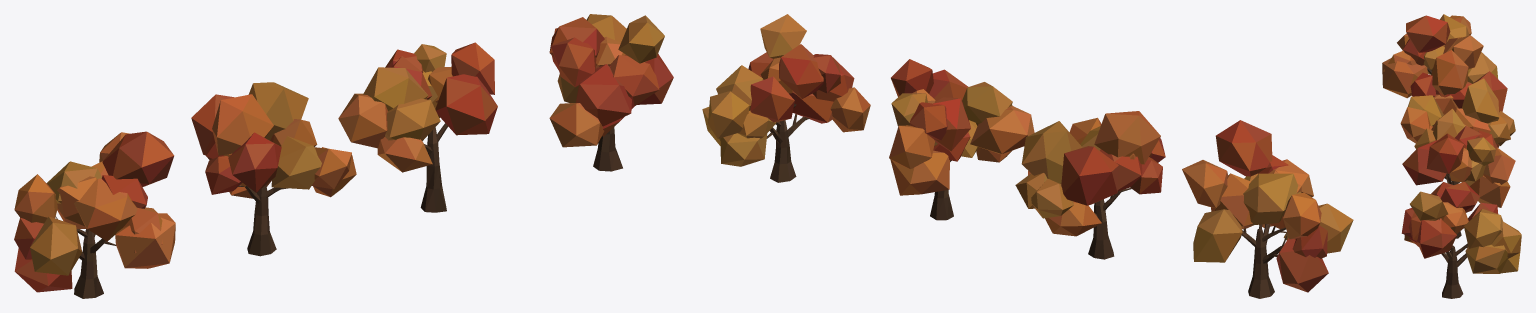
Rendered from ranvora_v2_autumn.glb.
3 views of the same model, side by side, from view 1: azimuth 30°, elevation 25°; view 2: azimuth 150°, elevation 25°; view 3: azimuth 270°, elevation 25° (orthographic). The views are drawn at different scales.
Parts seen in each view (by area): view 1: autumn_A_mesh, autumn_C_mesh, autumn_B_mesh, autumn_D_mesh; view 2: autumn_A_mesh, autumn_D_mesh, autumn_B_mesh, autumn_C_mesh; view 3: autumn_D_mesh, autumn_C_mesh, autumn_B_mesh, autumn_A_mesh.
Part boxes in pixels (bbox=[...]): autumn_A_mesh: bbox=[14, 131, 175, 298]; autumn_C_mesh: bbox=[338, 42, 497, 212]; autumn_B_mesh: bbox=[191, 82, 356, 256]; autumn_D_mesh: bbox=[549, 14, 673, 171]; autumn_A_mesh: bbox=[1182, 120, 1353, 298]; autumn_D_mesh: bbox=[702, 14, 870, 182]; autumn_B_mesh: bbox=[1015, 111, 1165, 259]; autumn_C_mesh: bbox=[889, 59, 1034, 220]; autumn_D_mesh: bbox=[1401, 181, 1521, 298]; autumn_C_mesh: bbox=[1402, 108, 1515, 238]; autumn_B_mesh: bbox=[1400, 50, 1515, 179]; autumn_A_mesh: bbox=[1382, 14, 1497, 98].
Bounding box in the file's own units: 24.28 × 5.93 × 6.48.
